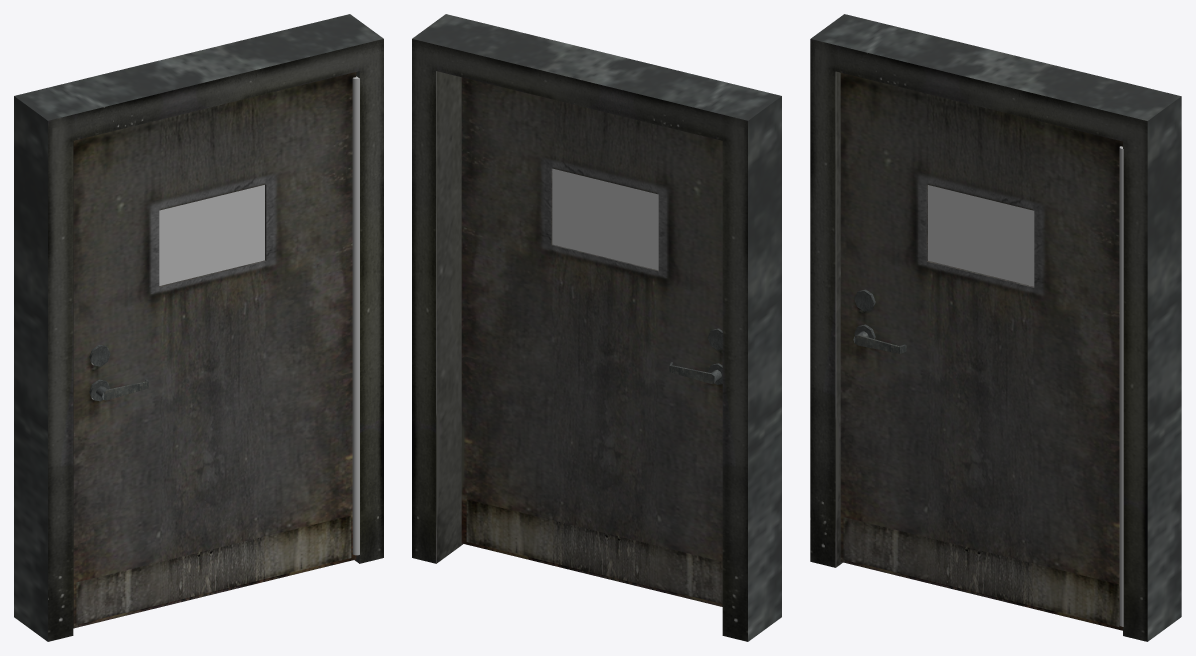
File: door_storagedoor.dae
The picture shows the model from 3 angles, left to right: view 1: azimuth 30°, elevation 25°; view 2: azimuth 150°, elevation 25°; view 3: azimuth 330°, elevation 25°; orthographic projection.
Parts seen in each view (by area): view 1: door, frame, grating, _joint_hinge_door_null_0_120_nocollide_joint1; view 2: door, frame, grating; view 3: door, frame, grating, _joint_hinge_door_null_0_120_nocollide_joint1.
Part boxes in pixels (<box>): door: <box>73,72,356,628</box>; frame: <box>14,14,383,641</box>; grating: <box>159,185,264,285</box>; _joint_hinge_door_null_0_120_nocollide_joint1: <box>352,76,359,555</box>; door: <box>461,77,722,606</box>; frame: <box>412,14,781,641</box>; grating: <box>552,168,658,270</box>; door: <box>840,73,1122,630</box>; frame: <box>810,14,1181,641</box>; grating: <box>928,185,1034,286</box>; _joint_hinge_door_null_0_120_nocollide_joint1: <box>1119,146,1123,626</box>.
Size of what is drawn, in the model's own units: 1.5 by 2.22 by 0.3061.
